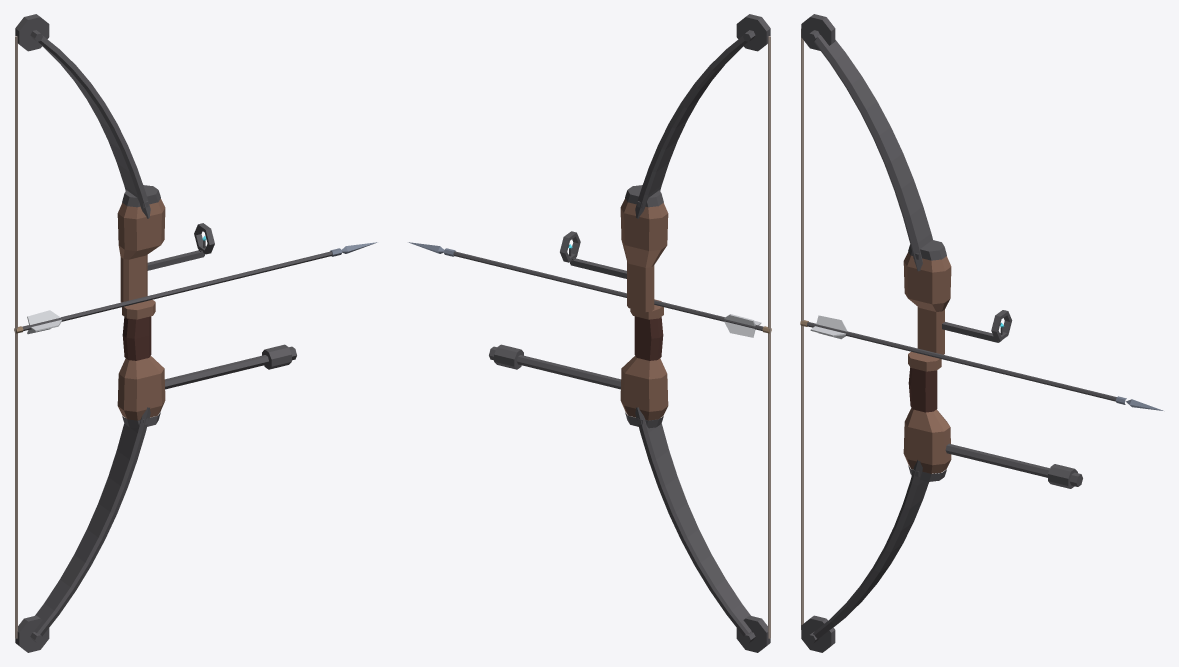
The model's file is Bow.glb.
3 renders of one model, left to right at view 1: azimuth 30°, elevation 25°; view 2: azimuth 150°, elevation 25°; view 3: azimuth 330°, elevation 25°, orthographic.
Parts seen in each view (by area): view 1: bow-body-metal, bow-body-matte, arrow-metal, arrow-matte; view 2: bow-body-metal, bow-body-matte, arrow-metal, arrow-matte; view 3: bow-body-metal, bow-body-matte, arrow-metal, arrow-matte.
Boxes of the visible parts, x1=… form: bow-body-metal: x1=15, y1=14, x2=296, y2=652; bow-body-matte: x1=15, y1=36, x2=165, y2=638; arrow-metal: x1=22, y1=242, x2=377, y2=331; arrow-matte: x1=14, y1=310, x2=61, y2=334; bow-body-metal: x1=489, y1=14, x2=770, y2=652; bow-body-matte: x1=620, y1=36, x2=770, y2=638; arrow-metal: x1=408, y1=242, x2=763, y2=331; arrow-matte: x1=724, y1=314, x2=771, y2=337; bow-body-metal: x1=801, y1=14, x2=1082, y2=652; bow-body-matte: x1=801, y1=29, x2=951, y2=629; arrow-metal: x1=807, y1=322, x2=1163, y2=410; arrow-matte: x1=800, y1=315, x2=847, y2=339.
Size of the model in its own units: 0.8062 by 1.34 by 0.0835.
